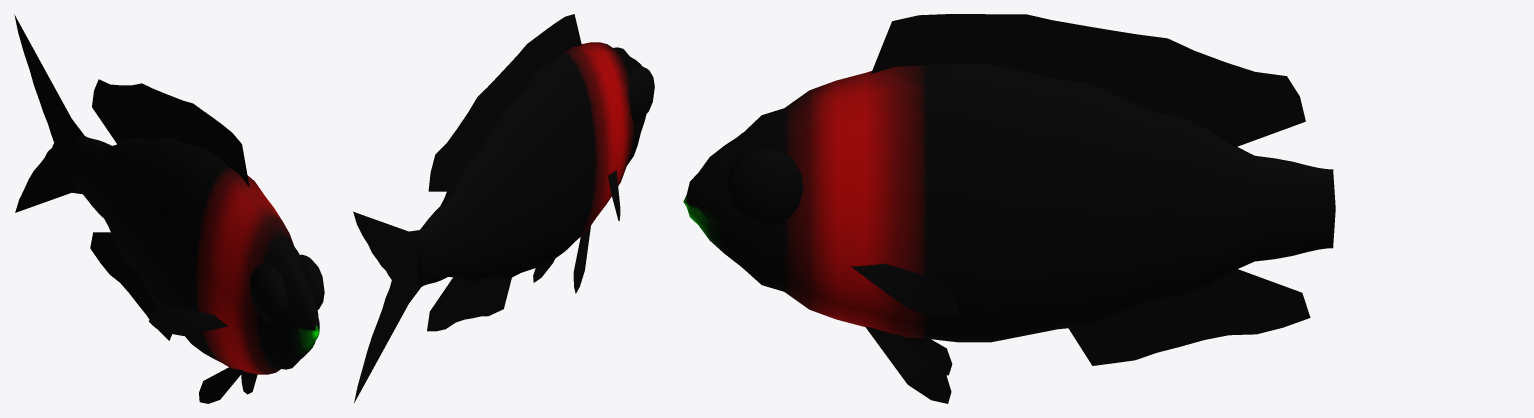
The model's file is green-chromis.glb.
The picture shows the model from 3 angles, left to right: view 1: azimuth 30°, elevation 25°; view 2: azimuth 150°, elevation 25°; view 3: azimuth 270°, elevation 25°; orthographic projection. The views are drawn at different scales.
Visible parts, largest first — view 1: chromis_body, chromis_dorsal, chromis_caudal, chromis_anal, chromis_eyeL, chromis_pectoralL, chromis_pelvicL, chromis_eyeR; view 2: chromis_body, chromis_dorsal, chromis_caudal, chromis_anal, chromis_eyeL, chromis_pelvicL, chromis_pectoralL; view 3: chromis_body, chromis_dorsal, chromis_anal, chromis_eyeR, chromis_pectoralR, chromis_pelvicR, chromis_pelvicL.
Boxes of the visible parts, x1,y1,x2,y2 form: chromis_body: [72, 135, 319, 374]; chromis_dorsal: [92, 79, 249, 187]; chromis_caudal: [14, 14, 84, 212]; chromis_anal: [90, 232, 171, 340]; chromis_eyeL: [249, 263, 287, 322]; chromis_pectoralL: [148, 305, 228, 335]; chromis_pelvicL: [199, 367, 243, 403]; chromis_eyeR: [300, 254, 324, 309]; chromis_body: [418, 42, 646, 287]; chromis_dorsal: [428, 14, 581, 191]; chromis_caudal: [353, 211, 421, 402]; chromis_anal: [427, 277, 511, 331]; chromis_eyeL: [628, 66, 654, 122]; chromis_pelvicL: [573, 226, 590, 293]; chromis_pectoralL: [608, 170, 620, 221]; chromis_body: [683, 63, 1335, 342]; chromis_dorsal: [871, 14, 1305, 147]; chromis_anal: [1068, 269, 1310, 365]; chromis_eyeR: [726, 149, 803, 224]; chromis_pectoralR: [851, 263, 958, 316]; chromis_pelvicR: [865, 327, 951, 403]; chromis_pelvicL: [903, 337, 952, 375].
Bounding box in the file's own units: 0.3393 × 0.6386 × 1.29.
